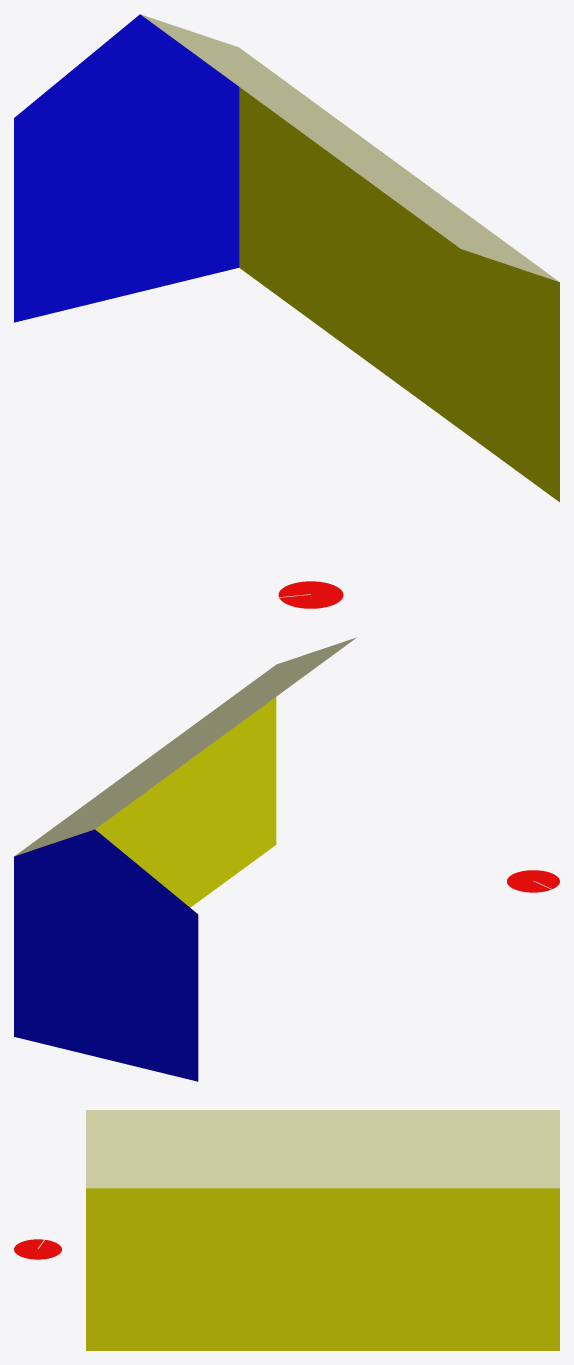
The model's file is result.glb.
3 views of the same model, one above another, from view 1: azimuth 30°, elevation 25°; view 2: azimuth 150°, elevation 25°; view 3: azimuth 270°, elevation 25° (orthographic). The views are drawn at different scales.
Visible parts, largest first — view 1: cb70d8c6-1d48-4d75-9f09-3ae2c84e8807__undefined, 23e8bd00-8961-4fc7-88c0-574a6218259b__undefined, d83ef9b5-1337-48d7-a999-dc45835aa45e__undefined, 889514ab-8cf0-4edc-9aa6-16b25aa6a0cf__Circle; view 2: 23e8bd00-8961-4fc7-88c0-574a6218259b__undefined, cb70d8c6-1d48-4d75-9f09-3ae2c84e8807__undefined, d83ef9b5-1337-48d7-a999-dc45835aa45e__undefined, 889514ab-8cf0-4edc-9aa6-16b25aa6a0cf__Circle; view 3: cb70d8c6-1d48-4d75-9f09-3ae2c84e8807__undefined, d83ef9b5-1337-48d7-a999-dc45835aa45e__undefined, 889514ab-8cf0-4edc-9aa6-16b25aa6a0cf__Circle.
Boxes of the visible parts, x1,y1,x2,y2 form: cb70d8c6-1d48-4d75-9f09-3ae2c84e8807__undefined: (239,87,559,502); 23e8bd00-8961-4fc7-88c0-574a6218259b__undefined: (14,14,239,322); d83ef9b5-1337-48d7-a999-dc45835aa45e__undefined: (141,14,558,281); 889514ab-8cf0-4edc-9aa6-16b25aa6a0cf__Circle: (278,581,343,608); 23e8bd00-8961-4fc7-88c0-574a6218259b__undefined: (14,829,198,1081); cb70d8c6-1d48-4d75-9f09-3ae2c84e8807__undefined: (95,697,276,907); d83ef9b5-1337-48d7-a999-dc45835aa45e__undefined: (14,637,356,856); 889514ab-8cf0-4edc-9aa6-16b25aa6a0cf__Circle: (507,870,559,892); cb70d8c6-1d48-4d75-9f09-3ae2c84e8807__undefined: (86,1188,559,1350); d83ef9b5-1337-48d7-a999-dc45835aa45e__undefined: (86,1110,559,1188); 889514ab-8cf0-4edc-9aa6-16b25aa6a0cf__Circle: (14,1239,61,1259).
Bounding box in the file's own units: 550 × 471 × 1137.
